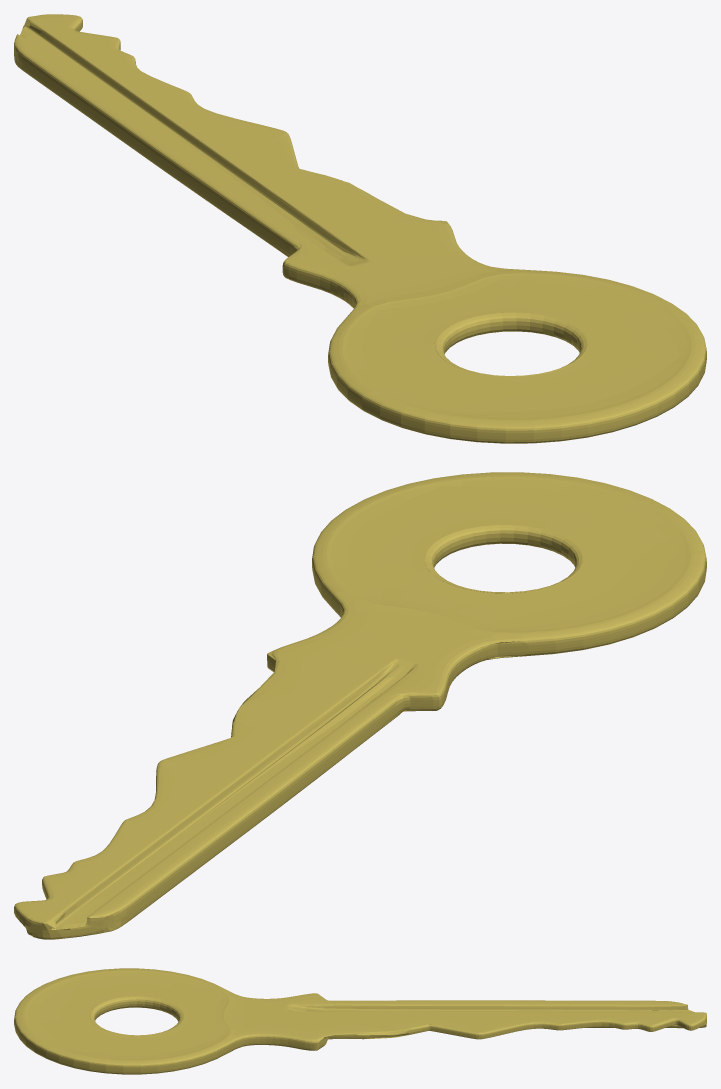
Rendered from Key.fbx.
3 views of the same model, one above another, from view 1: azimuth 30°, elevation 25°; view 2: azimuth 150°, elevation 25°; view 3: azimuth 270°, elevation 25° (orthographic). The views are drawn at different scales.
Parts seen in each view (by area): view 1: Cube.003; view 2: Cube.003; view 3: Cube.003.
Boxes of the visible parts, box(x1,y1,x2,y2) form: Cube.003: box(14, 14, 706, 443); Cube.003: box(14, 472, 706, 939); Cube.003: box(14, 968, 706, 1074).
Bounding box in the file's own units: 33.71 × 2.49 × 100.
